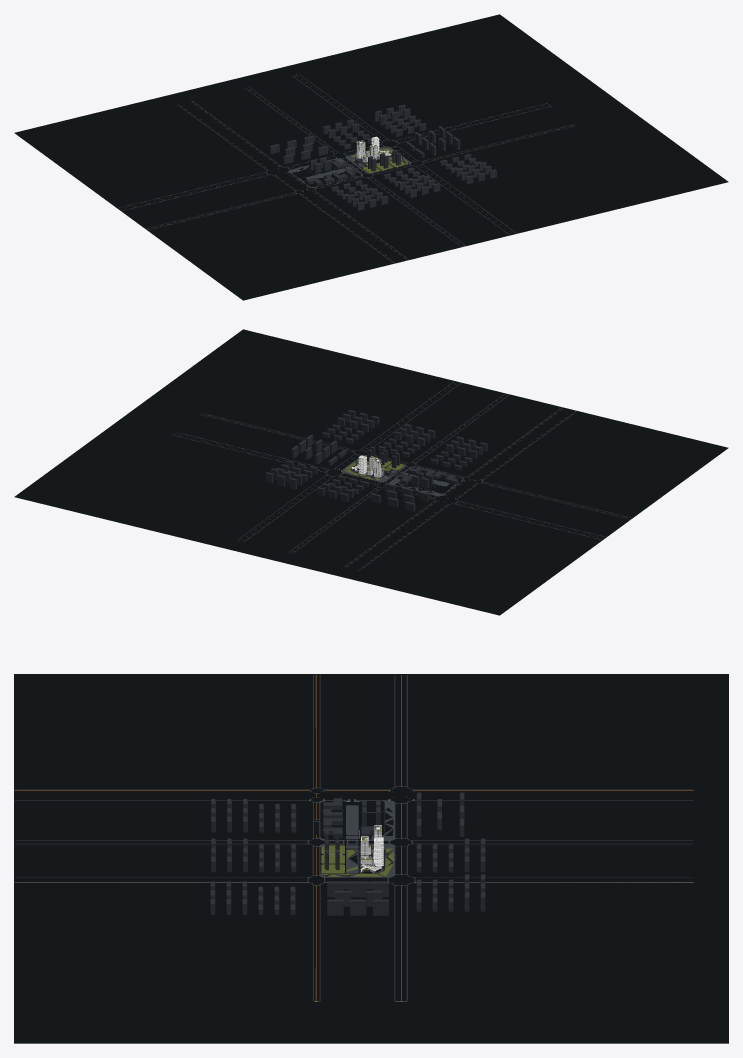
File: park-buildings.glb
3 views of the same model, one above another, from view 1: azimuth 30°, elevation 25°; view 2: azimuth 150°, elevation 25°; view 3: azimuth 270°, elevation 25° (orthographic). The views are drawn at different scales.
Parts seen in each view (by area): view 1: 大草地, 配楼, 柏油路, 马路牙子.001, 长条砖; view 2: 大草地, 配楼, 柏油路, 马路牙子.001, 长条砖; view 3: 大草地, 柏油路, 配楼, 马路牙子.001, 长条砖, 黄线, 草地.001, 草地.
Boxes of the visible parts, bbox=[...] form: 大草地: bbox=[14, 14, 728, 300]; 配楼: bbox=[269, 104, 496, 210]; 柏油路: bbox=[118, 74, 577, 263]; 马路牙子.001: bbox=[119, 74, 576, 263]; 长条砖: bbox=[288, 146, 410, 187]; 大草地: bbox=[14, 329, 728, 615]; 配楼: bbox=[265, 410, 487, 511]; 柏油路: bbox=[173, 381, 632, 570]; 马路牙子.001: bbox=[173, 381, 631, 569]; 长条砖: bbox=[341, 455, 463, 495]; 大草地: bbox=[14, 674, 728, 1043]; 柏油路: bbox=[14, 674, 693, 1001]; 配楼: bbox=[210, 792, 485, 915]; 马路牙子.001: bbox=[14, 674, 693, 1001]; 长条砖: bbox=[319, 800, 395, 877]; 黄线: bbox=[14, 674, 693, 1001]; 草地.001: bbox=[321, 845, 393, 876]; 草地: bbox=[321, 801, 393, 839].
Size of the model in its own units: 34.93 by 1.11 by 26.41.
34 materials, 3 textured.
